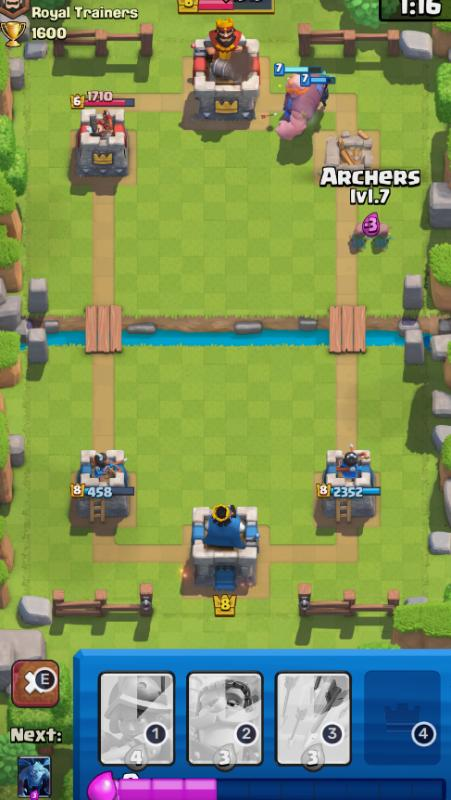archere: (371, 222, 401, 258), (350, 216, 374, 258)
geant: (262, 58, 316, 155)
mini_PEKKA: (310, 72, 339, 116)
